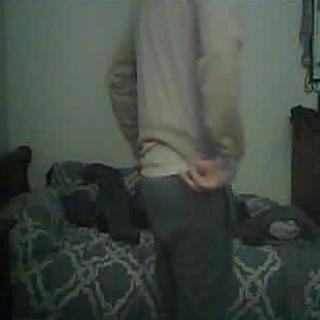Blue Sweatpants: (147, 176, 232, 320)
Yellow Hoodie: (120, 0, 239, 173)
